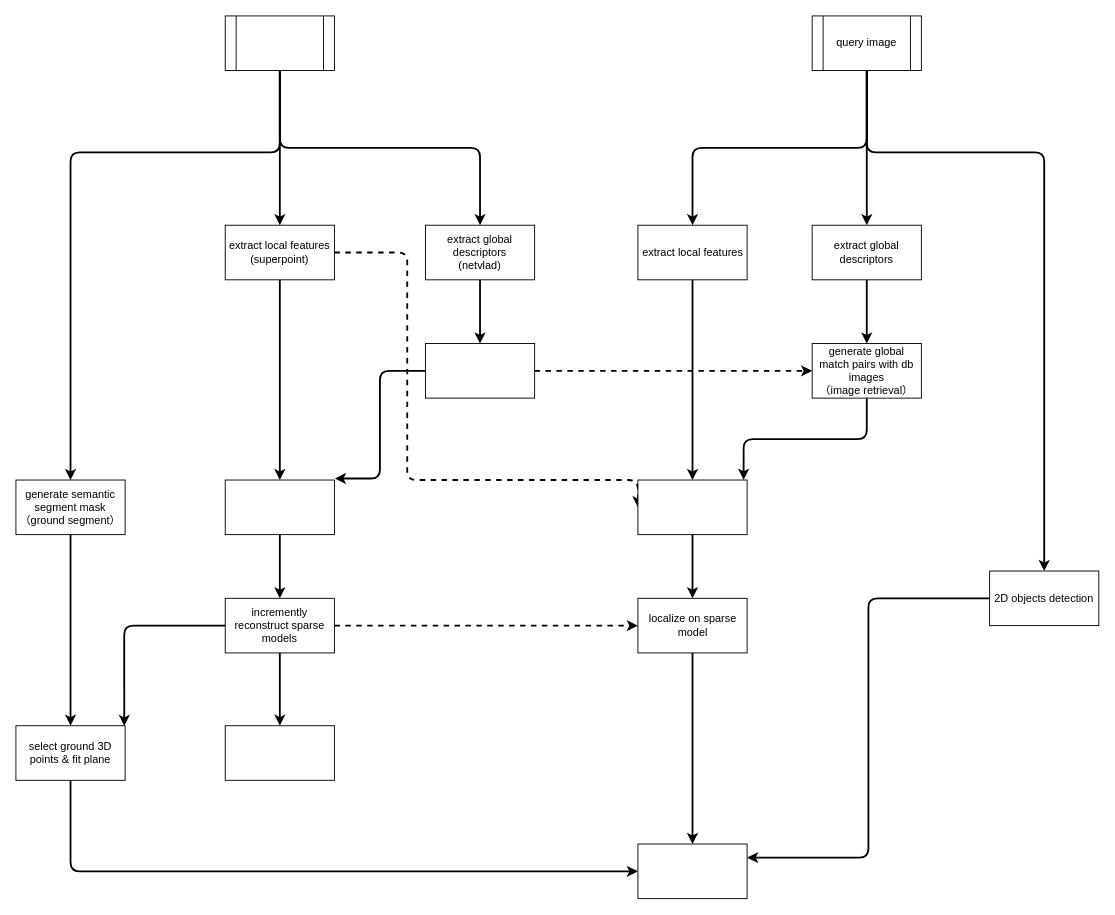
Image size: 1115x915. Some labels were removed from this diagram. The centre of each missing label's shape, as x and y in pixels:
database images: pixel 279 43
dense reconstruction for further visulization: pixel 279 752
generate global pairs (by feature similarity): pixel 480 370
localize objects on the ground: pixel 692 871
match local features in global pairs (superglue): pixel 279 507
match query local features with db local features: pixel 692 507
